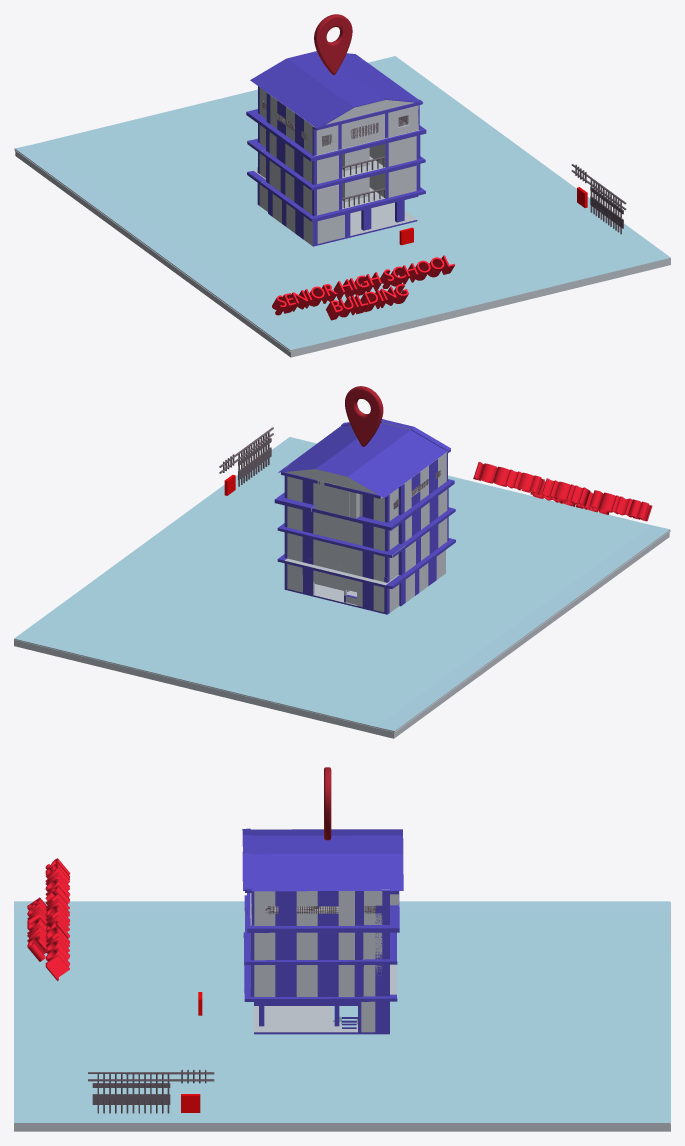
The model's file is shsbuilding.glb.
The picture shows the model from 3 angles, top to bottom: view 1: azimuth 30°, elevation 25°; view 2: azimuth 150°, elevation 25°; view 3: azimuth 270°, elevation 25°; orthographic projection. The views are drawn at different scales.
Visible parts, largest first — view 1: Cylinder.536, Cylinder.163, Cylinder.162, Text, dot, Cylinder.012; view 2: Cylinder.536, Cylinder.163, Text, Cylinder.162, dot, Cylinder.012; view 3: Cylinder.536, Cylinder.163, Cylinder.162, Text, Cylinder.012, dot.
Part boxes in pixels (box(x1,y1,x2,y2)): Cylinder.536: box(14, 56, 670, 357); Cylinder.163: box(246, 51, 426, 190); Cylinder.162: box(247, 158, 425, 221); Text: box(272, 255, 454, 320); dot: box(314, 14, 352, 74); Cylinder.012: box(571, 164, 626, 234); Cylinder.536: box(14, 437, 670, 738); Cylinder.163: box(274, 419, 455, 557); Text: box(473, 462, 652, 521); Cylinder.162: box(277, 517, 455, 588); dot: box(345, 386, 383, 446); Cylinder.012: box(219, 427, 273, 486); Cylinder.536: box(14, 889, 670, 1131); Cylinder.163: box(242, 828, 403, 964); Cylinder.162: box(243, 932, 397, 1001); Text: box(27, 858, 70, 980); Cylinder.012: box(88, 1069, 214, 1113); dot: box(324, 767, 331, 840).
Size of what is drawn, in the model's own units: 269 by 137 by 337.
